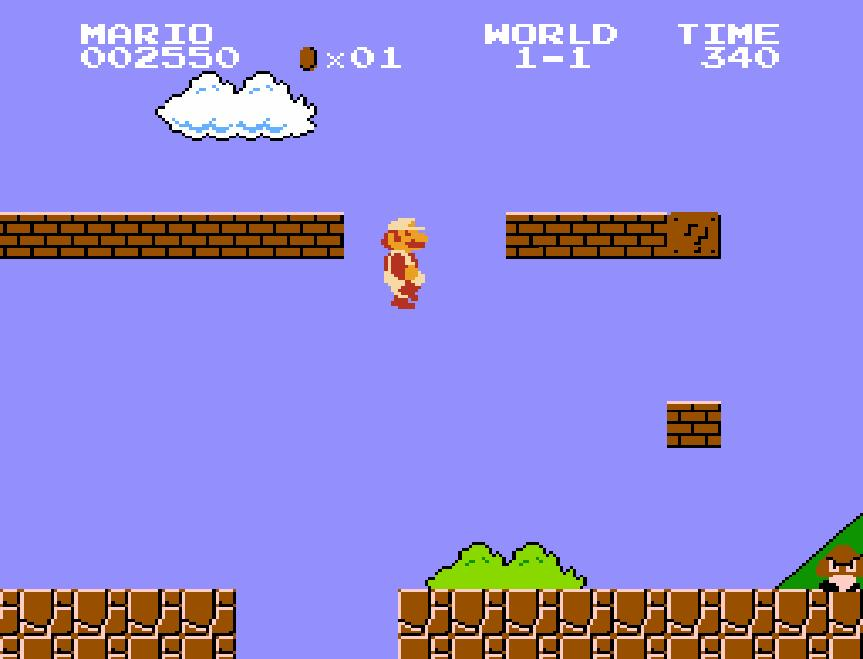fire_mario: (376, 212, 434, 310)
